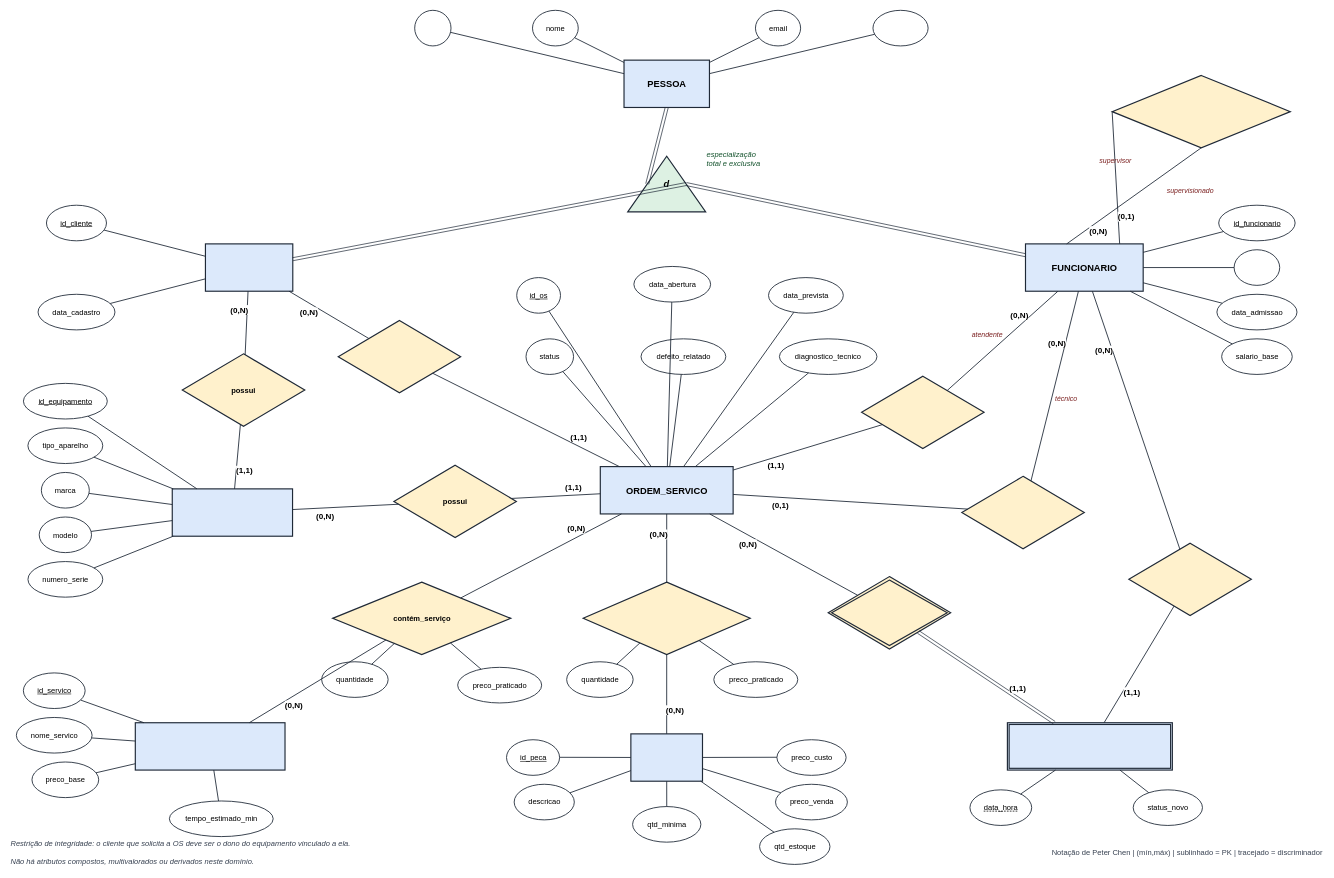
This 1334x878 diagram has some shape labels left out. Each missing label, with the box of its shape:
altera: (1128, 542, 1252, 616)
atende: (861, 375, 984, 449)
cargo: (1233, 249, 1280, 286)
CLIENTE: (205, 243, 293, 292)
cpf: (414, 10, 451, 46)
EQUIPAMENTO: (171, 488, 293, 536)
executa: (961, 475, 1085, 549)
HISTORICO_STATUS_OS: (1007, 722, 1173, 770)
PECA: (630, 733, 703, 781)
registra: (827, 576, 951, 649)
SERVICO_CATALOGO: (134, 722, 285, 770)
solicita: (337, 320, 461, 393)
supervisiona: (1111, 75, 1291, 148)
telefone: (872, 10, 928, 46)
utiliza_peça: (582, 581, 751, 655)
